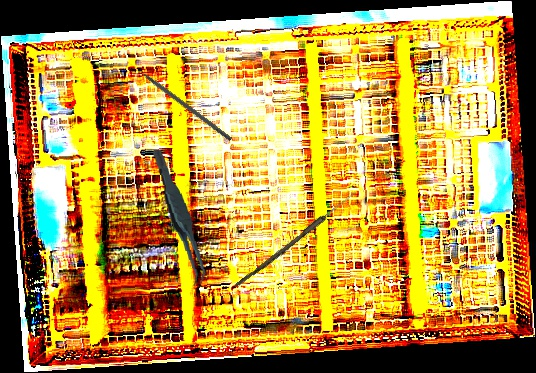Hook Surgical: (127, 60, 233, 142)
Surgical Spoon: (234, 188, 358, 291)
Tissue Forceps: (151, 146, 208, 289)
